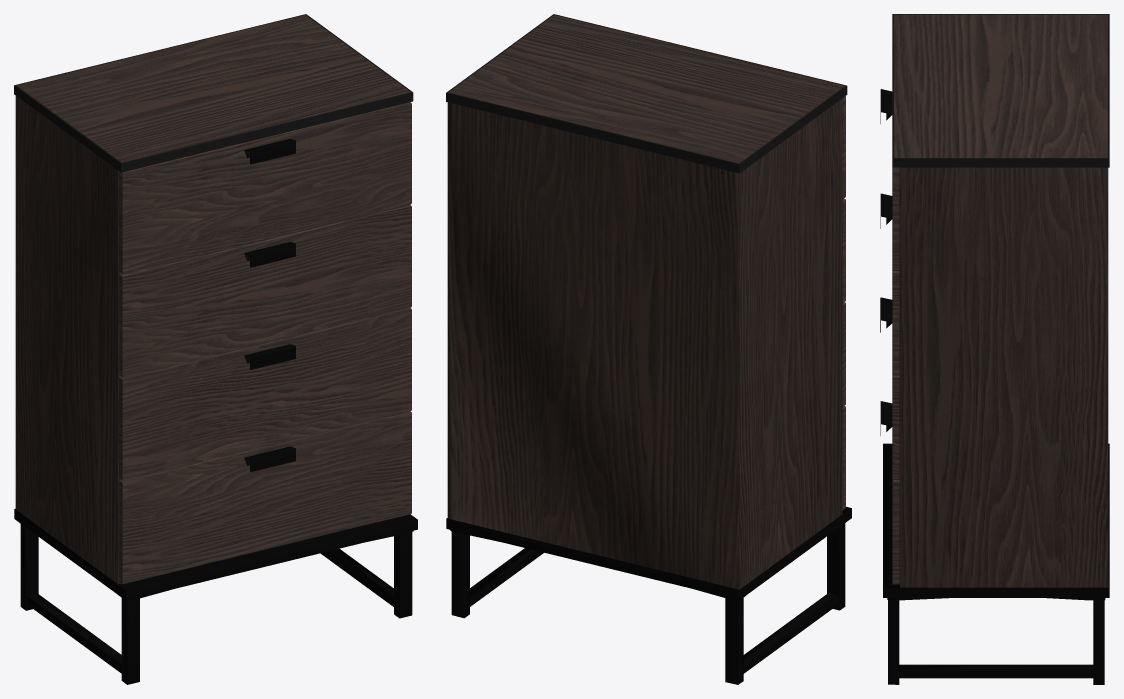
The model's file is dresser_ikea_drawer_cabinet_taken_id.glb.
3 renders of one model, left to right at view 1: azimuth 30°, elevation 25°; view 2: azimuth 150°, elevation 25°; view 3: azimuth 270°, elevation 25°, orthographic.
Visible parts, largest first — view 1: Cube.003_Wood.001_0, Body_Wood_0, Bottom_METAL_0, Top_Black Wood_0; view 2: Body_Wood_0, Bottom_METAL_0, Top_Black Wood_0, Cube.003_Wood.001_0; view 3: Body_Wood_0, Bottom_METAL_0, Cube.003_Wood.001_0, Top_Black Wood_0.
Boxes of the visible parts, x1,y1,x2,y2 form: Cube.003_Wood.001_0: (119, 102, 411, 584); Body_Wood_0: (15, 15, 410, 584); Bottom_METAL_0: (14, 139, 417, 684); Top_Black Wood_0: (14, 14, 413, 172); Body_Wood_0: (447, 15, 844, 589); Bottom_METAL_0: (446, 506, 851, 684); Top_Black Wood_0: (446, 14, 847, 173); Cube.003_Wood.001_0: (842, 96, 845, 510); Body_Wood_0: (894, 14, 1108, 587); Bottom_METAL_0: (880, 89, 1109, 684); Cube.003_Wood.001_0: (892, 167, 899, 584); Top_Black Wood_0: (892, 14, 1109, 167).
Size of the model in its own units: 0.6567 by 1.12 by 0.44.
4 materials, 2 textured.
